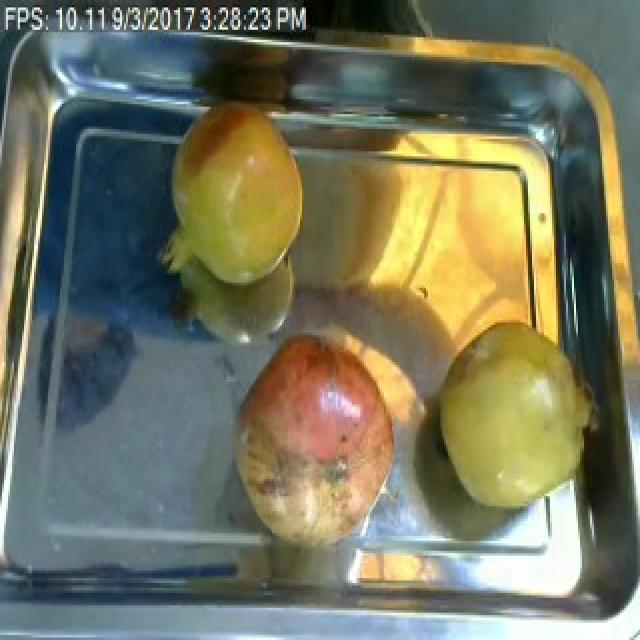fruit: (224, 318, 408, 566), (430, 307, 606, 528), (156, 87, 316, 300)
